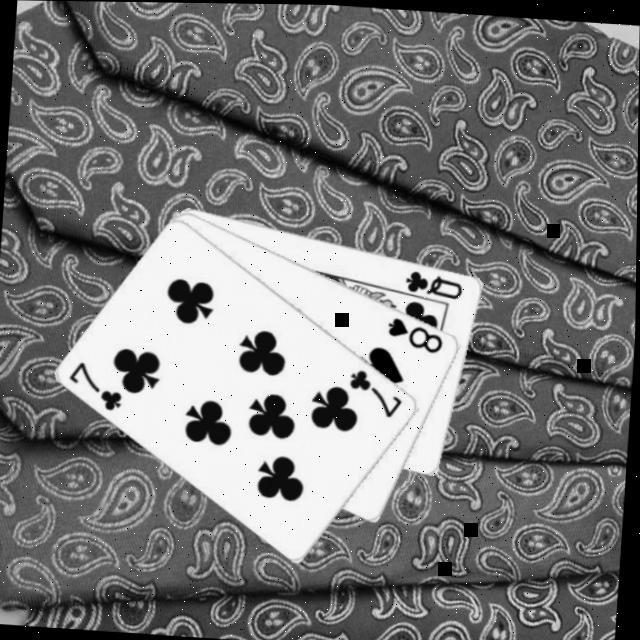7C: (66, 356, 130, 413), (346, 364, 410, 420)
8S: (384, 311, 449, 355)
QC: (404, 264, 469, 300)
